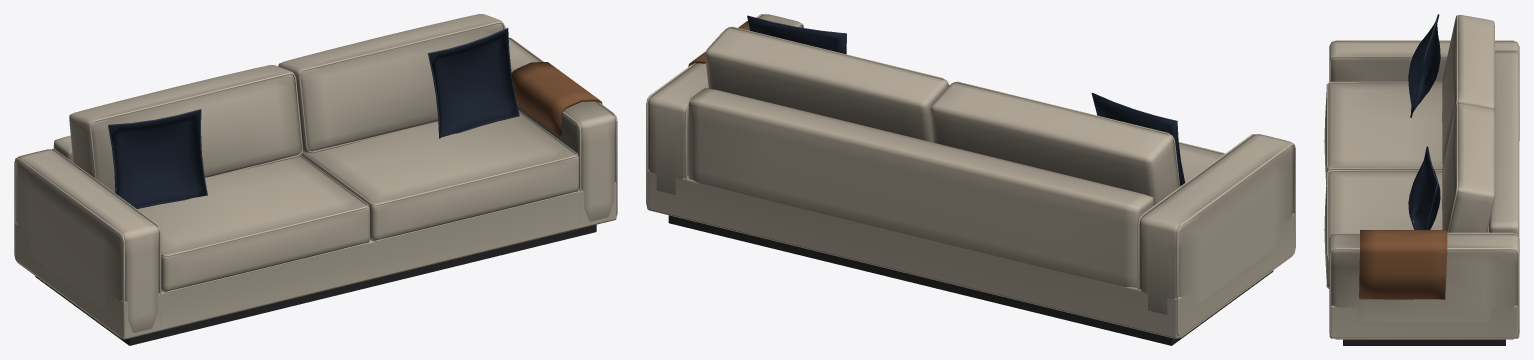
File: living_sofa.gltf
3 renders of one model, left to right at view 1: azimuth 30°, elevation 25°; view 2: azimuth 150°, elevation 25°; view 3: azimuth 270°, elevation 25°, orthographic. The views are drawn at different scales.
Visible parts, largest first — view 1: LivingSofa_Seat1, LivingSofa_Deck, LivingSofa_Seat0, LivingSofa_ArmL, LivingSofa_BackCushion1, LivingSofa_BackCushion0, LivingSofa_Pillow0, LivingSofa_Piping, LivingSofa_Pillow1, LivingSofa_ArmR, LivingSofa_Plinth, LivingSofa_ThrowNoCollide (+2 smaller); view 2: LivingSofa_BackFrame, LivingSofa_Deck, LivingSofa_ArmL, LivingSofa_BackCushion0, LivingSofa_BackCushion1, LivingSofa_ArmR, LivingSofa_Plinth, LivingSofa_Piping, LivingSofa_Pillow1, LivingSofa_Pillow0, LivingSofa_Seat0; view 3: LivingSofa_ArmR, LivingSofa_Seat0, LivingSofa_ThrowNoCollide, LivingSofa_BackCushion1, LivingSofa_Seat1, LivingSofa_BackFrame, LivingSofa_BackCushion0, LivingSofa_ArmL, LivingSofa_Piping, LivingSofa_Deck, LivingSofa_Pillow0, LivingSofa_Pillow1 (+3 smaller).
Boxes of the visible parts, <box> form: LivingSofa_Seat1: <box>301,112,578,240</box>; LivingSofa_Deck: <box>15,182,616,339</box>; LivingSofa_Seat0: <box>137,156,369,291</box>; LivingSofa_ArmL: <box>16,149,159,332</box>; LivingSofa_BackCushion1: <box>278,14,503,152</box>; LivingSofa_BackCushion0: <box>69,65,301,192</box>; LivingSofa_Pillow0: <box>109,110,206,207</box>; LivingSofa_Piping: <box>14,21,617,338</box>; LivingSofa_Pillow1: <box>429,29,518,137</box>; LivingSofa_ArmR: <box>508,39,615,221</box>; LivingSofa_Plinth: <box>35,224,596,345</box>; LivingSofa_ThrowNoCollide: <box>511,62,602,135</box>; LivingSofa_BackFrame: <box>688,88,1153,287</box>; LivingSofa_Deck: <box>647,169,1294,338</box>; LivingSofa_ArmL: <box>1139,134,1293,314</box>; LivingSofa_BackCushion0: <box>930,83,1178,205</box>; LivingSofa_BackCushion1: <box>705,28,948,142</box>; LivingSofa_ArmR: <box>648,14,801,194</box>; LivingSofa_Plinth: <box>668,215,1273,345</box>; LivingSofa_Piping: <box>646,14,1295,337</box>; LivingSofa_Pillow1: <box>748,17,845,53</box>; LivingSofa_Pillow0: <box>1093,95,1183,186</box>; LivingSofa_Seat0: <box>1179,143,1223,182</box>; LivingSofa_ArmR: <box>1329,234,1519,324</box>; LivingSofa_Seat0: <box>1324,82,1442,184</box>; LivingSofa_ThrowNoCollide: <box>1359,230,1447,299</box>; LivingSofa_BackCushion1: <box>1442,103,1494,232</box>; LivingSofa_Seat1: <box>1324,171,1442,287</box>; LivingSofa_BackFrame: <box>1489,50,1519,237</box>; LivingSofa_BackCushion0: <box>1442,15,1494,160</box>; LivingSofa_ArmL: <box>1329,41,1519,81</box>; LivingSofa_Piping: <box>1326,15,1519,339</box>; LivingSofa_Deck: <box>1329,225,1519,338</box>; LivingSofa_Pillow0: <box>1408,21,1440,112</box>; LivingSofa_Pillow1: <box>1408,150,1440,229</box>.
Bounding box in the file's own units: 2.62 × 0.8671 × 1.03.
